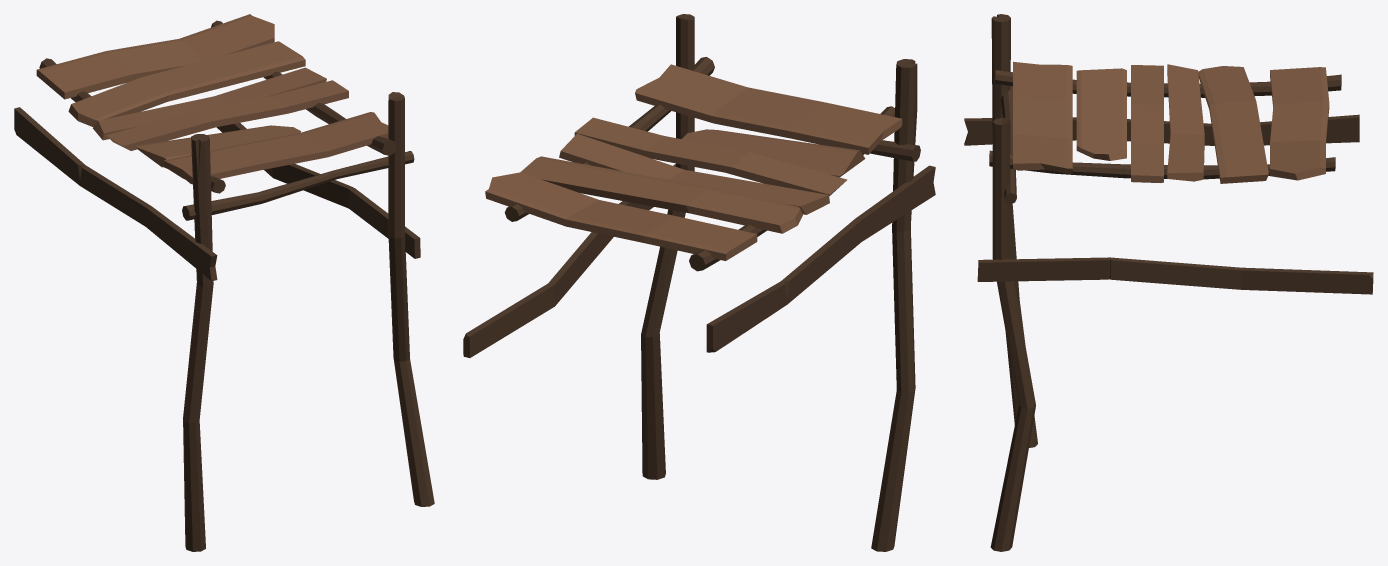
File: Wooden_bridge_1.fbx
3 views of the same model, side by side, from view 1: azimuth 30°, elevation 25°; view 2: azimuth 150°, elevation 25°; view 3: azimuth 270°, elevation 25° (orthographic). The views are drawn at different scales.
Parts seen in each view (by area): view 1: Wooden_bridge_1; view 2: Wooden_bridge_1; view 3: Wooden_bridge_1.
Part boxes in pixels (x1,y1,x2,y2): Wooden_bridge_1: (14, 14, 434, 551); Wooden_bridge_1: (463, 14, 935, 551); Wooden_bridge_1: (964, 14, 1373, 551).
Bounding box in the file's own units: 95.48 × 155 × 136.
